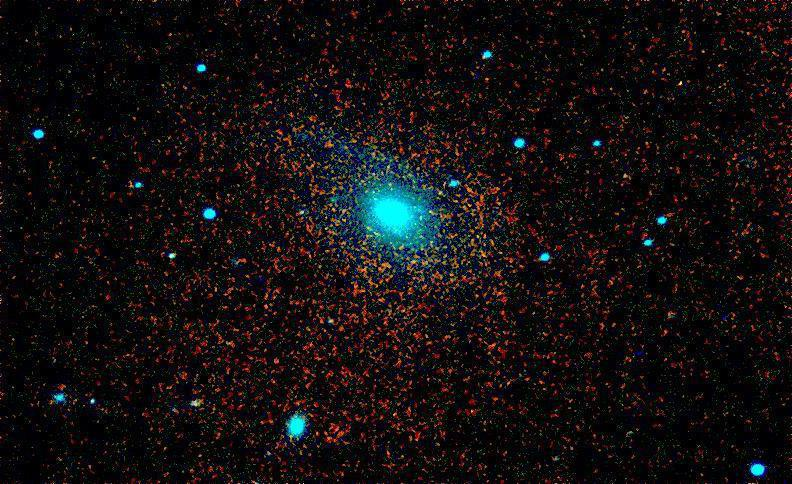star: (264, 344, 294, 374)
